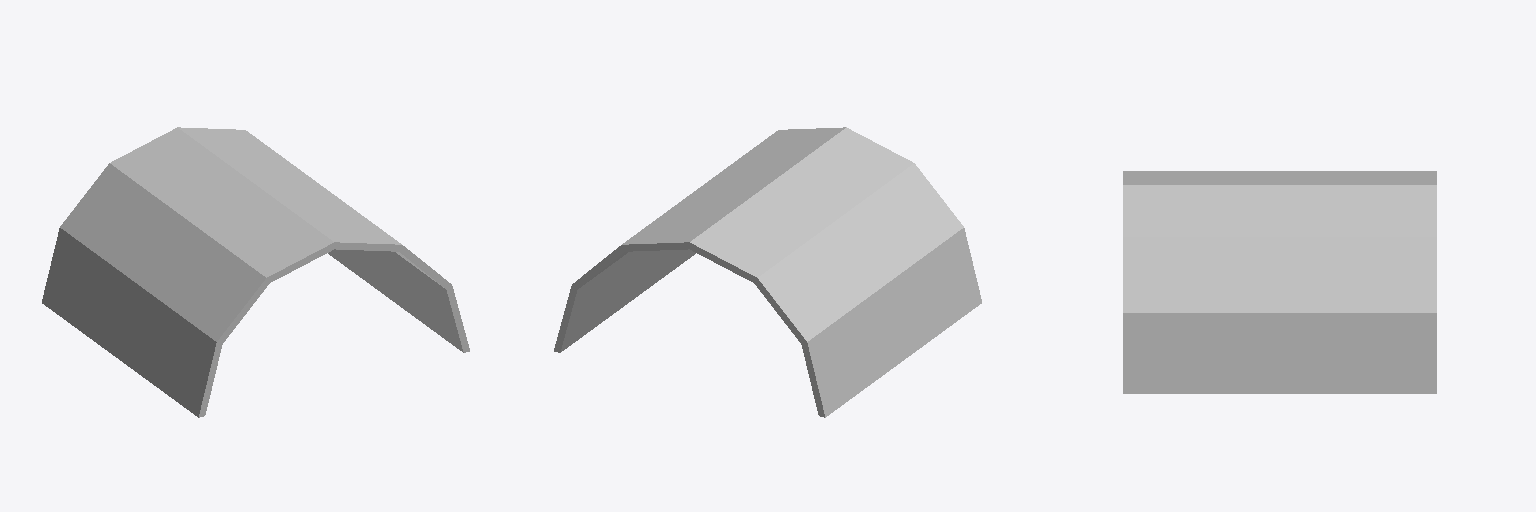
Rendered from Tunnel_001_Track_001_Bracelet.obj.
3 renders of one model, left to right at view 1: azimuth 30°, elevation 25°; view 2: azimuth 150°, elevation 25°; view 3: azimuth 270°, elevation 25°, orthographic.
Parts seen in each view (by area): view 1: Tunnel_001_Track_001_Bracelet; view 2: Tunnel_001_Track_001_Bracelet; view 3: Tunnel_001_Track_001_Bracelet.
Boxes of the visible parts, box(x1,y1,x2,y2) form: Tunnel_001_Track_001_Bracelet: box(42, 127, 469, 417); Tunnel_001_Track_001_Bracelet: box(554, 127, 981, 417); Tunnel_001_Track_001_Bracelet: box(1123, 171, 1436, 393).
Bounding box in the file's own units: 20 × 10 × 20.